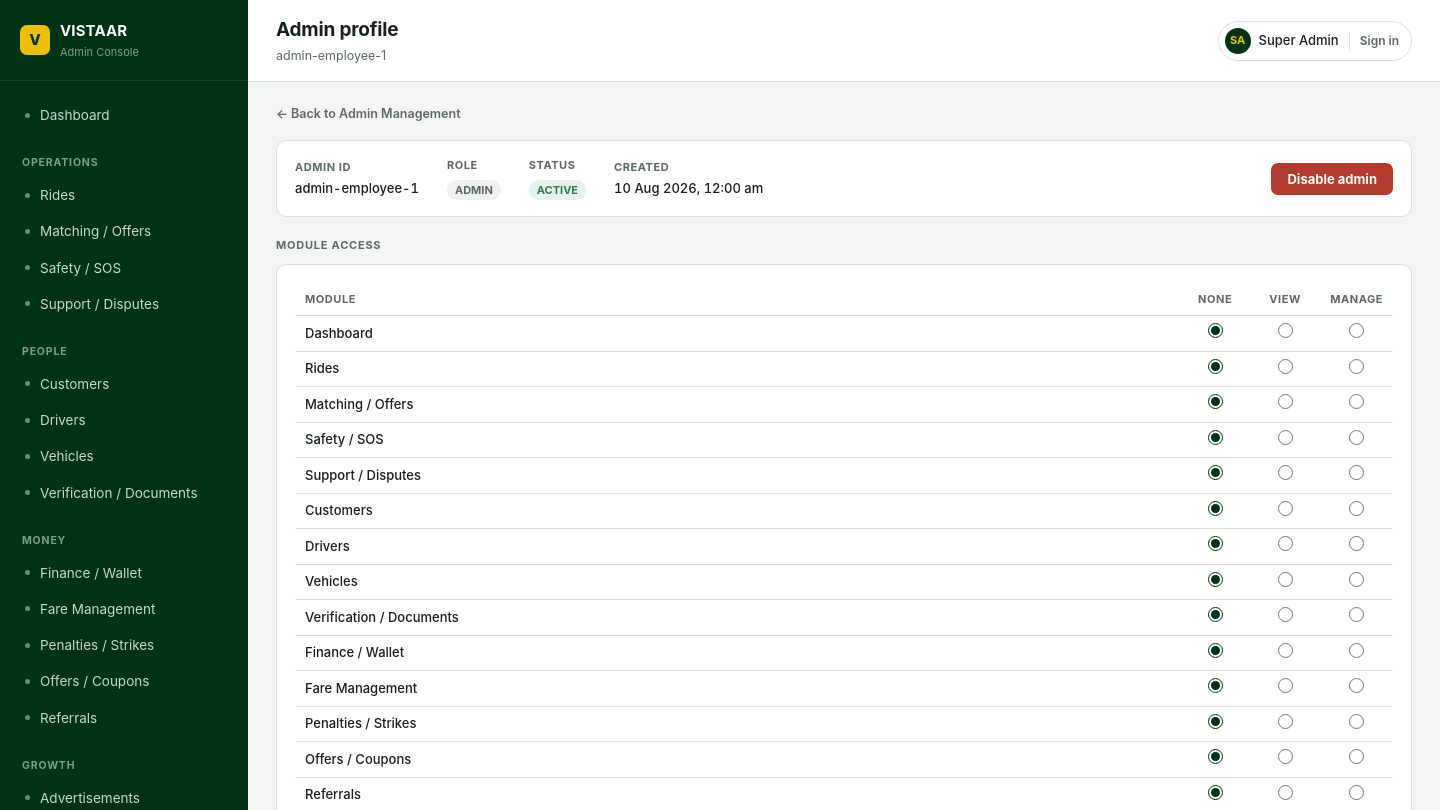
Scenario: AdminDetailPage › keeps Save disabled until a permission is actually changed, then saves the whole set
Expected: the text "Module access" is shown, [276, 238, 381, 252]
Step 1. Click the radio button named "Dashboard — VIEW" → (1285,330), box [1278, 323, 1293, 338]
(page scrolled)
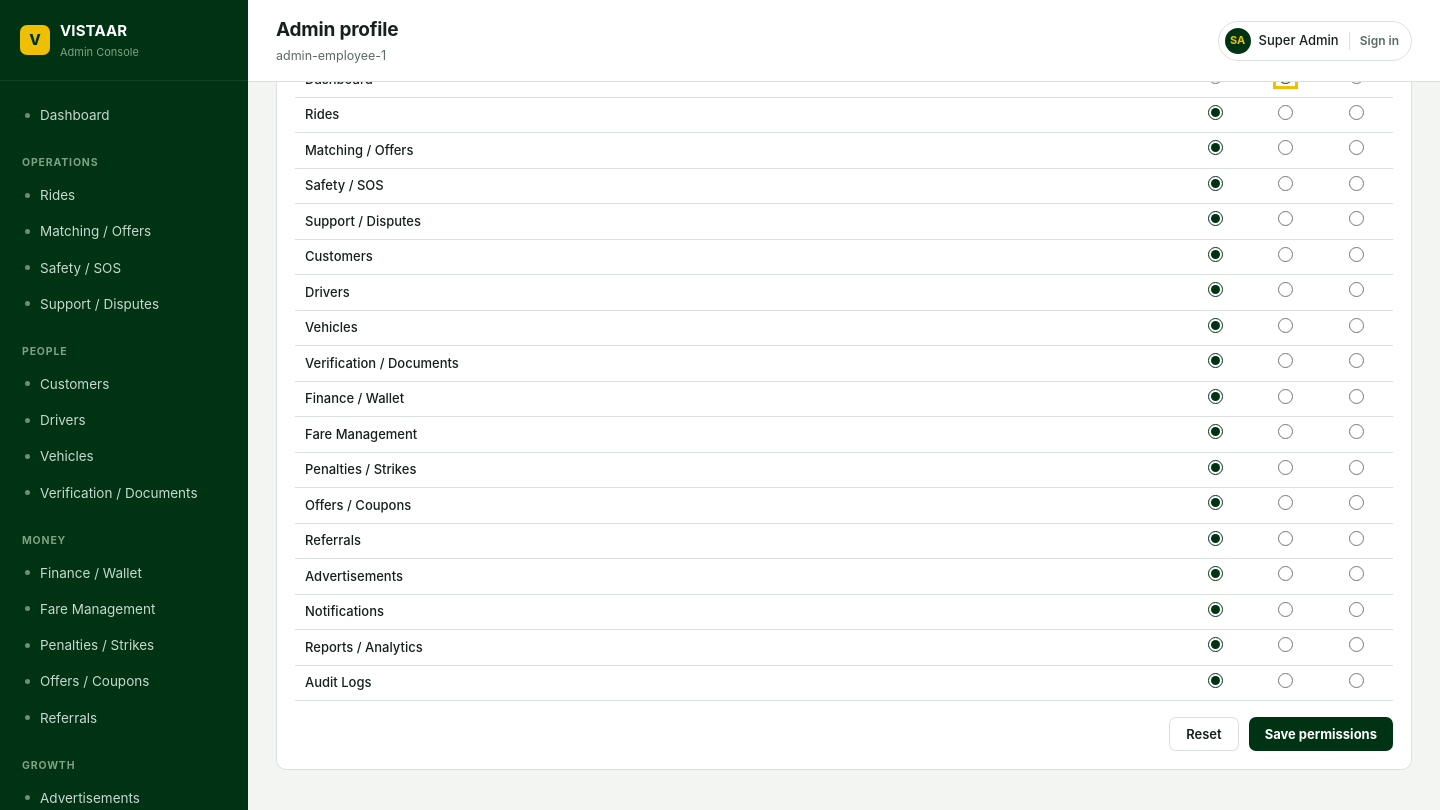
Now the button "Save permissions" is enabled
Step 2. Click the button "Save permissions" → (1321,734), box [1249, 717, 1393, 751]
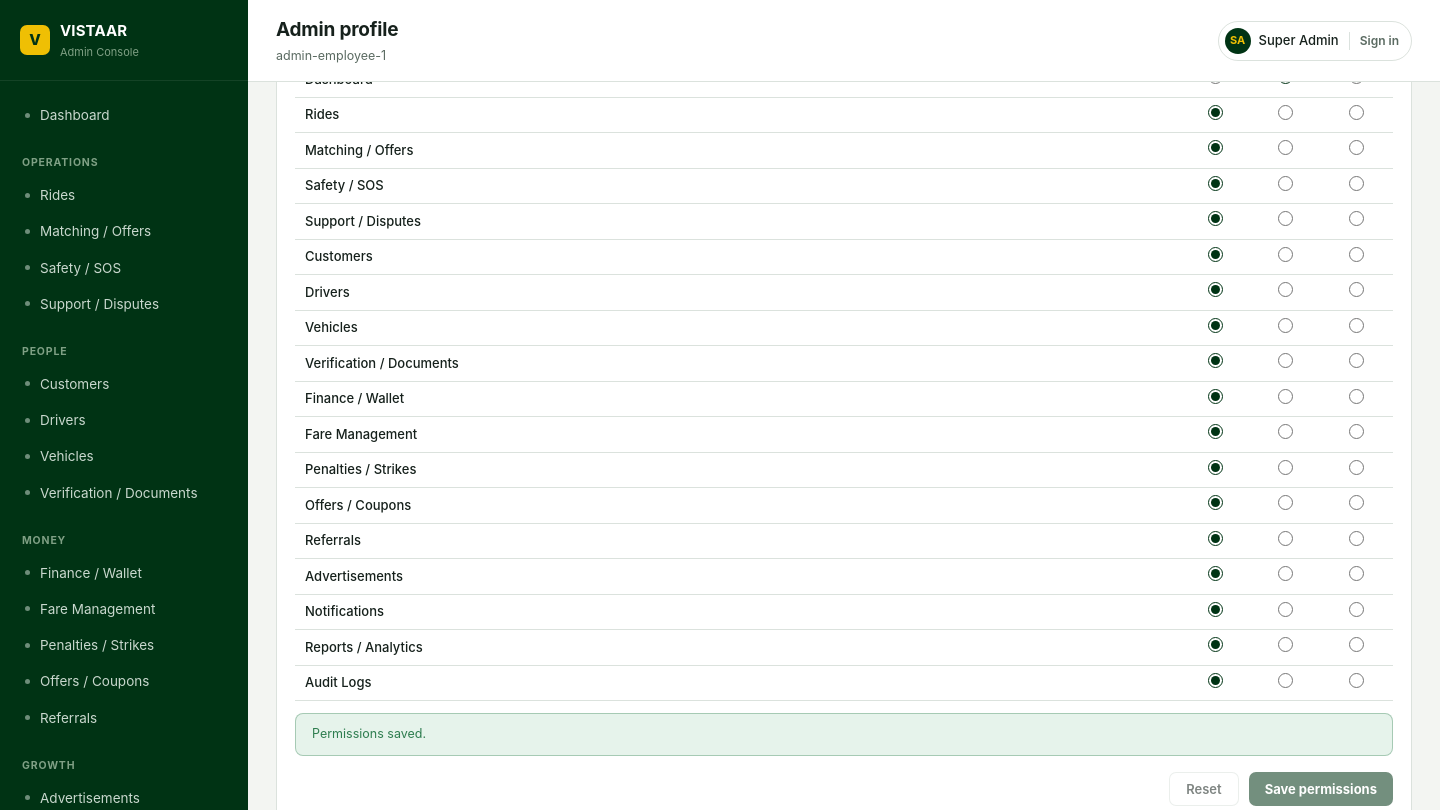
Now the text "Permissions saved." is shown, box [295, 713, 1393, 756]
Now the button "Save permissions" is disabled, box [1249, 772, 1393, 806]
